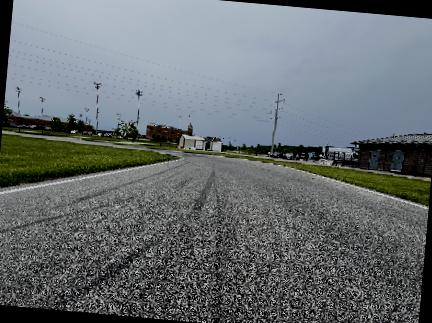Grass: (163, 148, 430, 205), (0, 134, 176, 187)
Lane: (0, 151, 428, 322)
